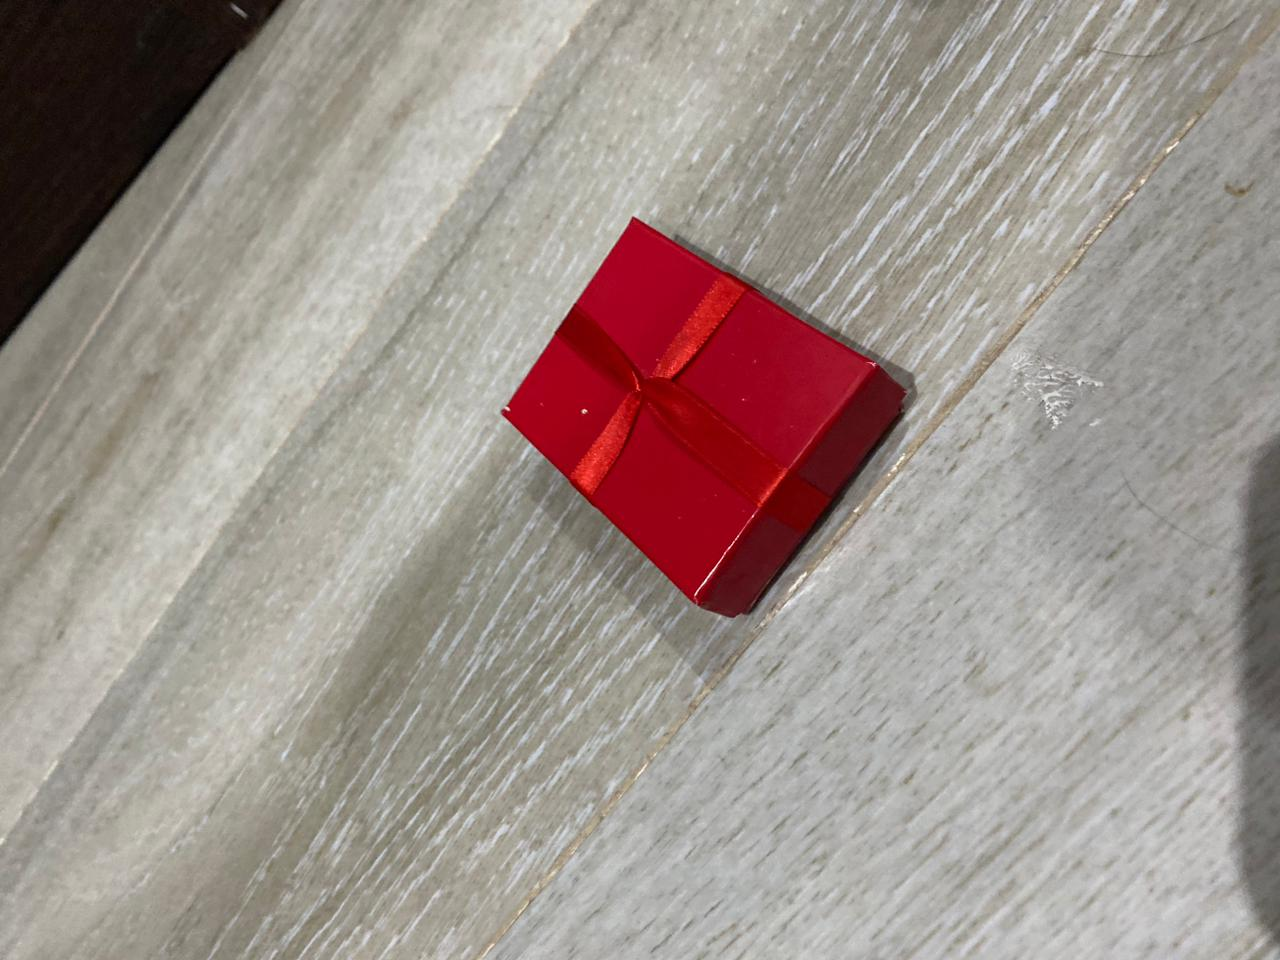Black Box: (487, 218, 922, 627)
